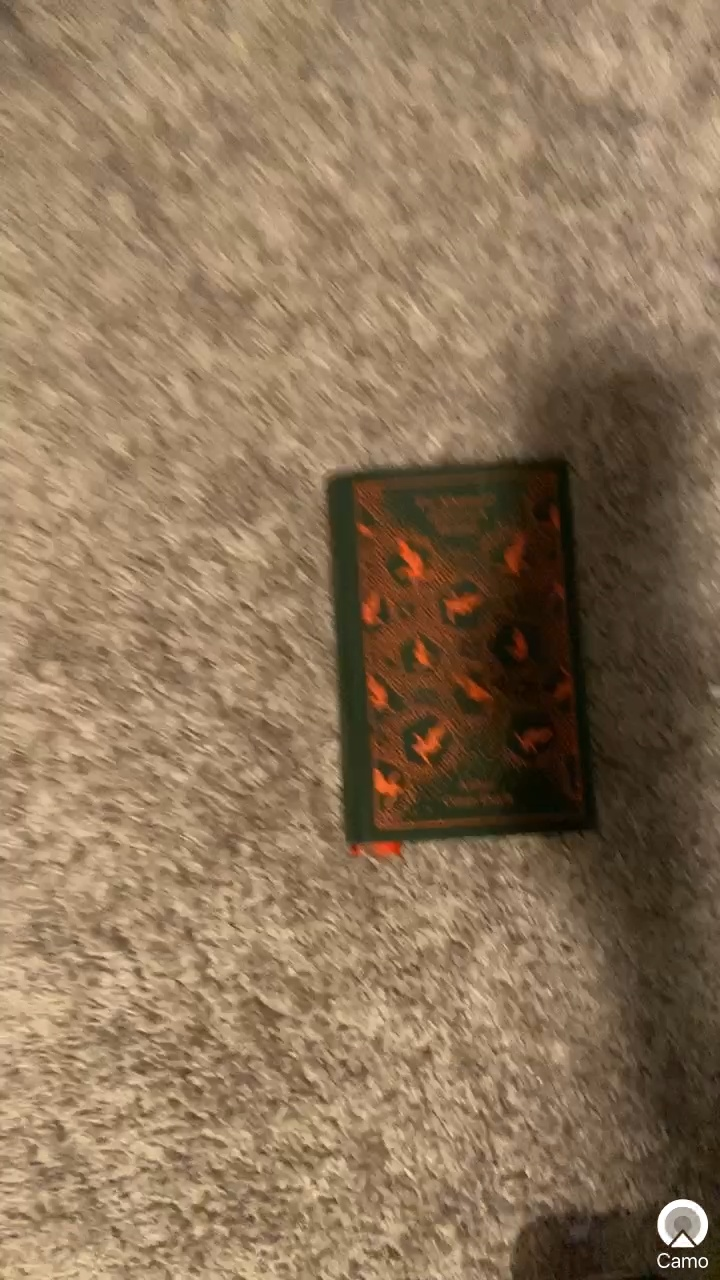Book: (307, 426, 624, 889)
